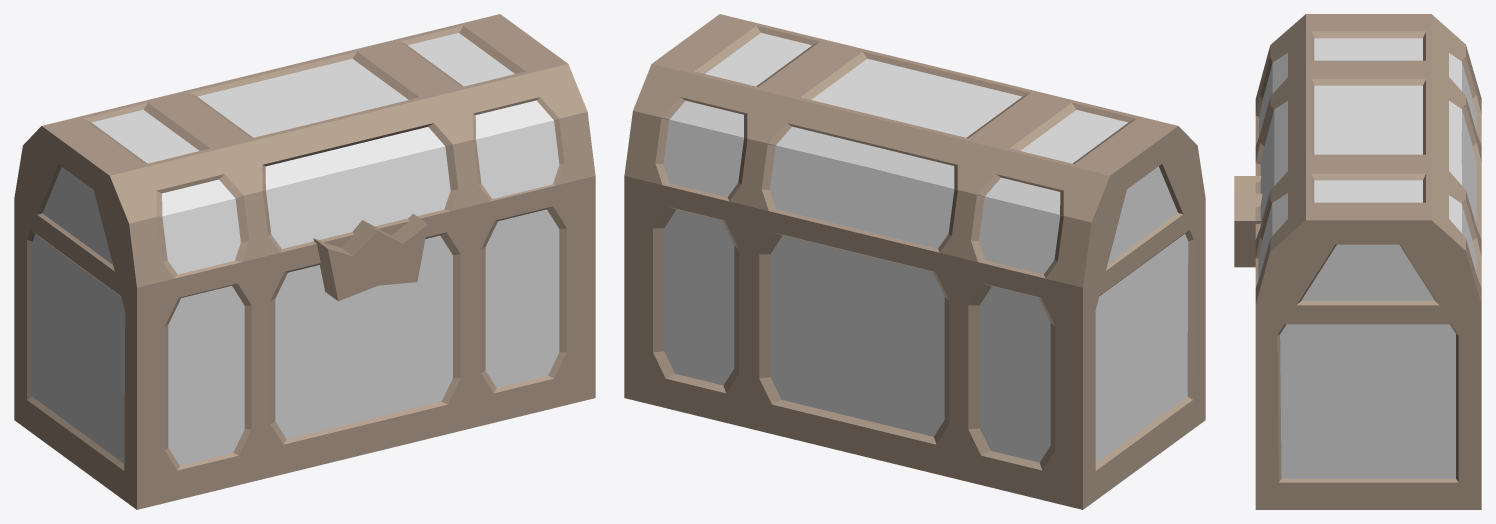
File: heaven_container_1.fbx
3 renders of one model, left to right at view 1: azimuth 30°, elevation 25°; view 2: azimuth 150°, elevation 25°; view 3: azimuth 270°, elevation 25°, orthographic. The views are drawn at different scales.
Parts seen in each view (by area): view 1: heaven_container_1_LOD0; view 2: heaven_container_1_LOD0; view 3: heaven_container_1_LOD0.
Part boxes in pixels (<box>): heaven_container_1_LOD0: <box>14,14,595,509</box>; heaven_container_1_LOD0: <box>624,14,1205,509</box>; heaven_container_1_LOD0: <box>1234,14,1481,509</box>.
Size of what is drawn, in the model's own units: 4.32 by 2.19 by 2.83.
